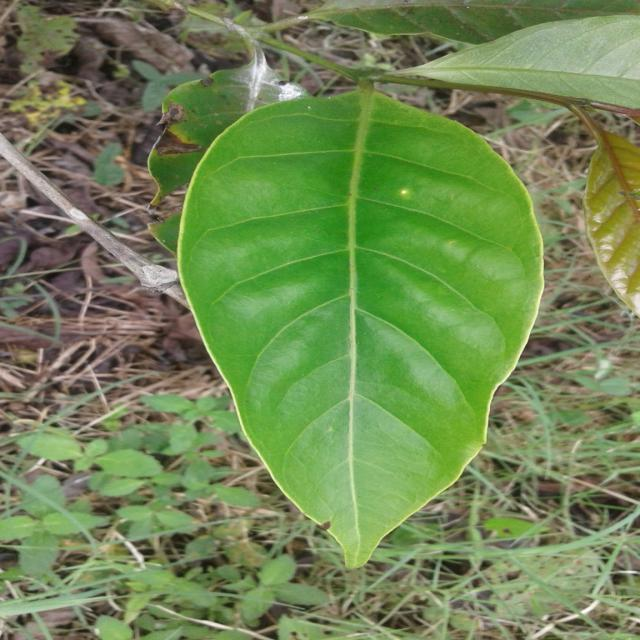Enfermedad-Roya: (174, 91, 546, 571)
